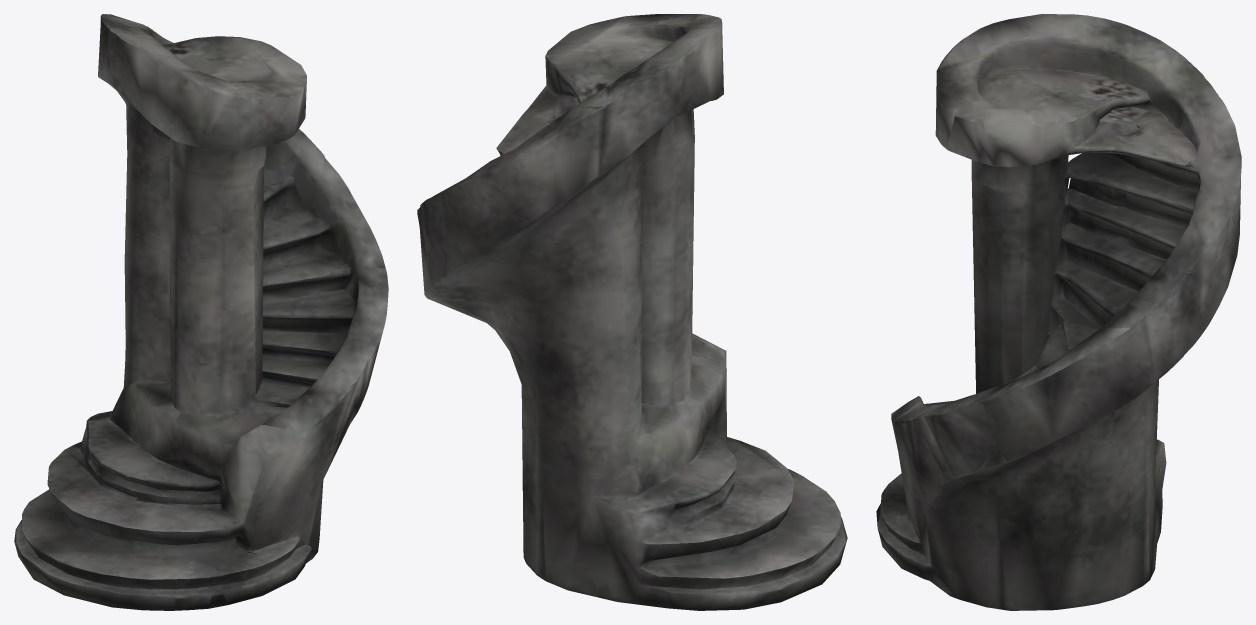
File: ancient-granite-spiral-staircase-v001.glb
3 renders of one model, left to right at view 1: azimuth 30°, elevation 25°; view 2: azimuth 150°, elevation 25°; view 3: azimuth 270°, elevation 25°, orthographic. The views are drawn at different scales.
Parts seen in each view (by area): view 1: ancient-granite-spiral-staircase; view 2: ancient-granite-spiral-staircase; view 3: ancient-granite-spiral-staircase.
Boxes of the visible parts, x1,y1,x2,y2 form: ancient-granite-spiral-staircase: [14, 14, 388, 610]; ancient-granite-spiral-staircase: [417, 14, 847, 610]; ancient-granite-spiral-staircase: [876, 14, 1241, 610].
Bounding box in the file's own units: 1.81 × 2.53 × 1.61.
Materials: 1 (1 with a texture image).
